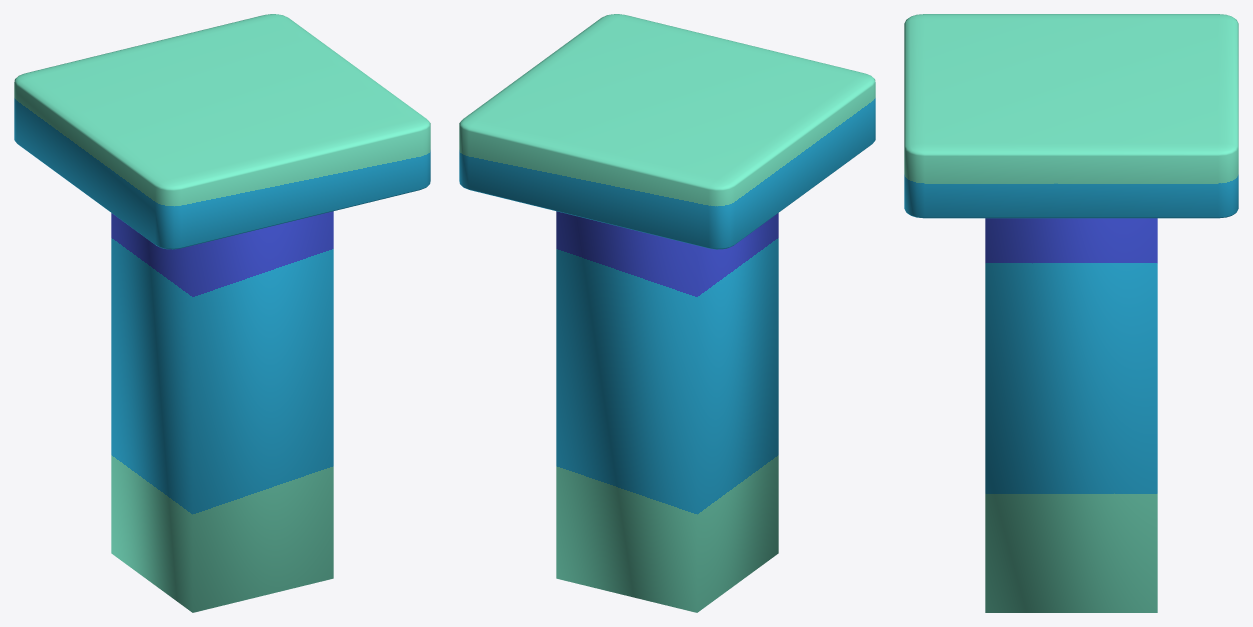
Rendered from platform1.fbx.
3 views of the same model, side by side, from view 1: azimuth 30°, elevation 25°; view 2: azimuth 150°, elevation 25°; view 3: azimuth 270°, elevation 25° (orthographic). The views are drawn at different scales.
Visible parts, largest first — view 1: Cube; view 2: Cube; view 3: Cube.
Part boxes in pixels (x1,y1,x2,y2): Cube: (14,14,430,612); Cube: (459,14,875,612); Cube: (904,14,1238,612).
Bounding box in the file's own units: 388 × 634 × 388.
1 material, 1 textured.
